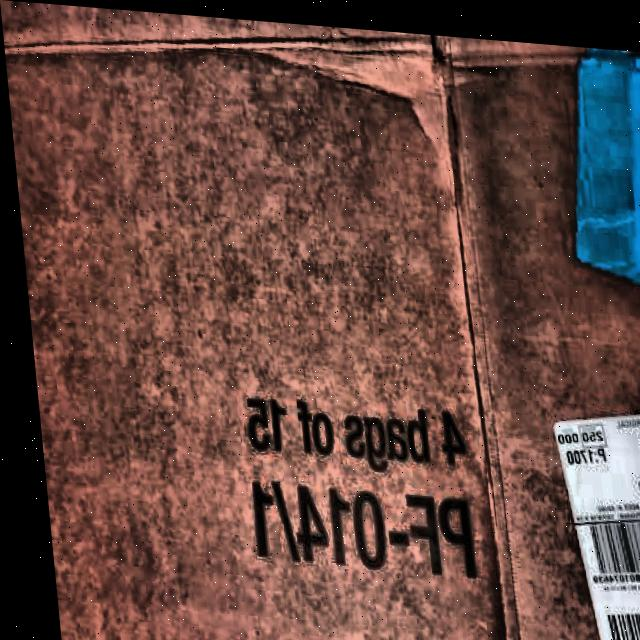cardboard: (0, 0, 640, 640), (442, 38, 640, 640)
